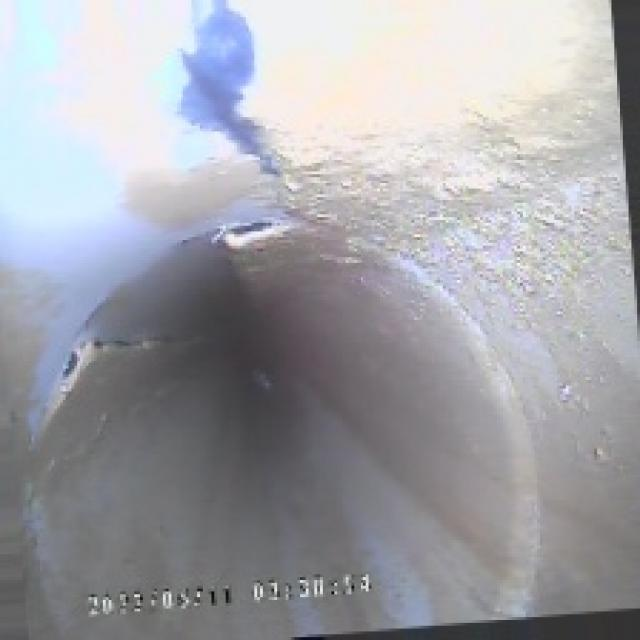pipe_surface_damage: (31, 206, 340, 400)
